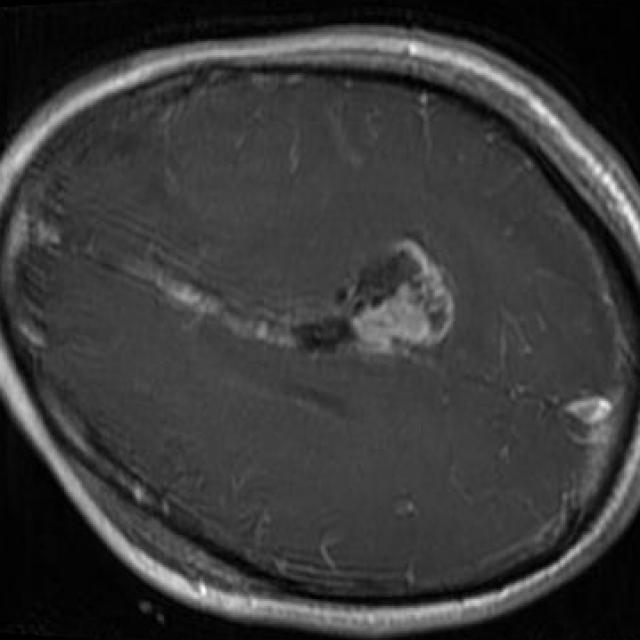glioma: (292, 241, 456, 357)
